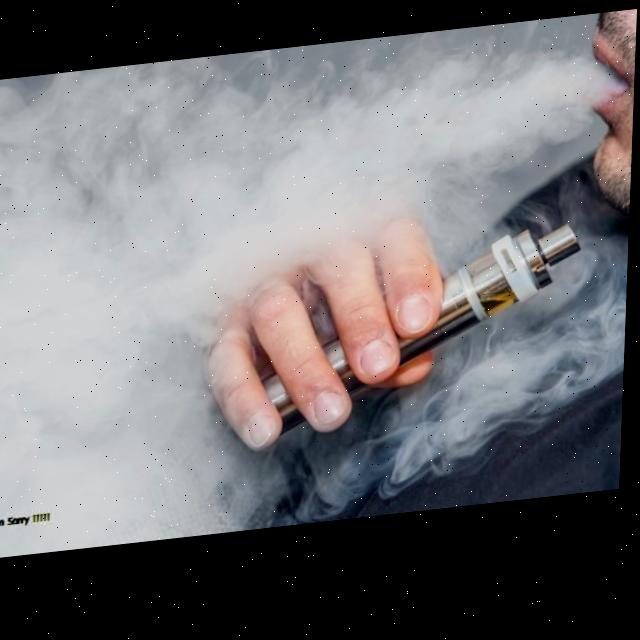vape: (266, 237, 586, 447)
